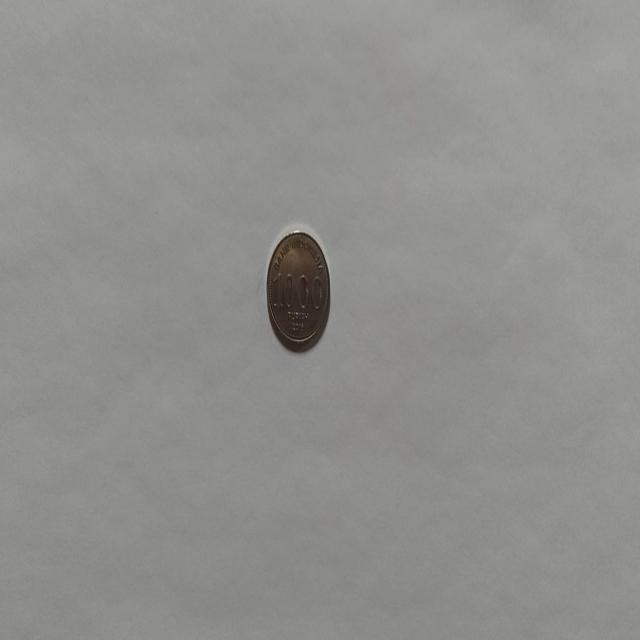seribu rupiah koin: (264, 227, 332, 353)
